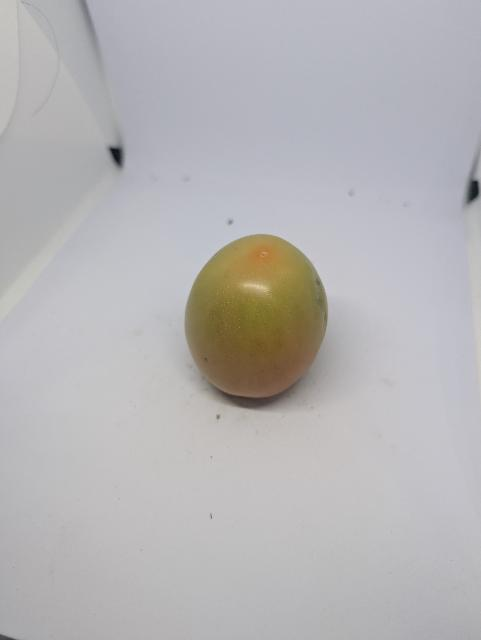breaker: (183, 228, 333, 404)
